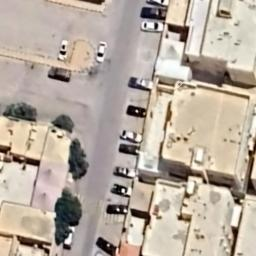pickup: (111, 180, 134, 196)
sedan: (107, 165, 142, 182), (96, 234, 119, 256), (123, 104, 154, 120), (124, 76, 154, 92), (116, 140, 145, 156), (140, 4, 170, 18), (137, 20, 170, 32), (104, 200, 132, 214), (55, 38, 71, 62), (96, 38, 109, 63), (118, 128, 144, 140)
